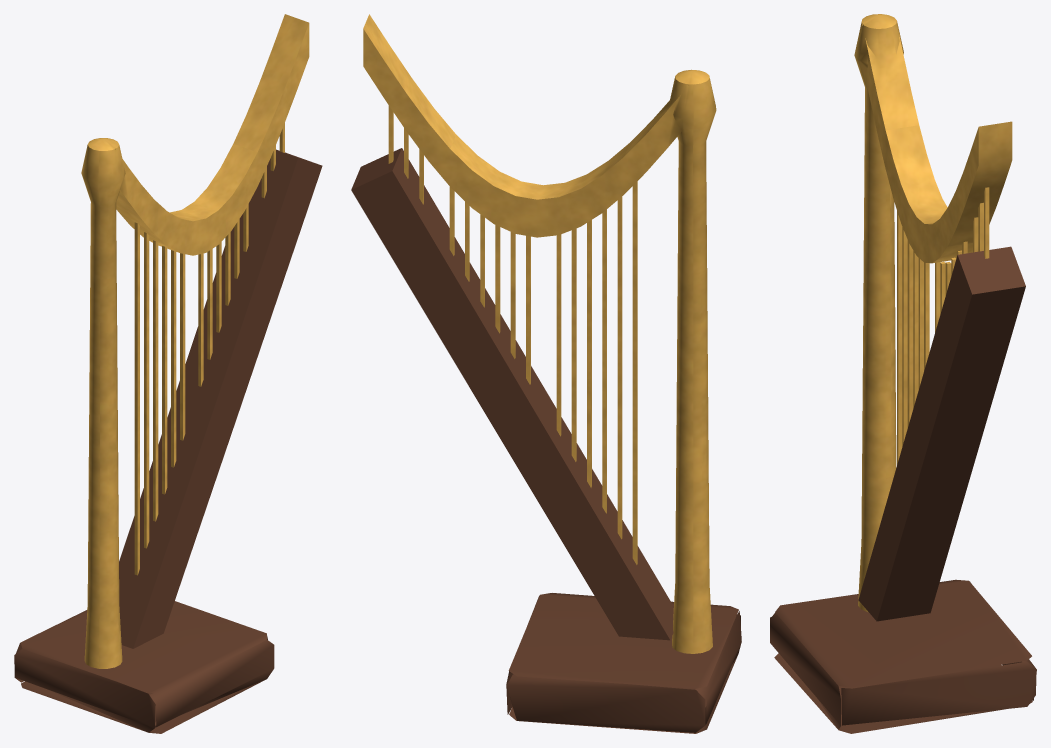
Rendered from sp_band_harp.glb.
The picture shows the model from 3 angles, left to right: view 1: azimuth 30°, elevation 25°; view 2: azimuth 150°, elevation 25°; view 3: azimuth 270°, elevation 25°; orthographic projection. The views are drawn at different scales.
Parts seen in each view (by area): view 1: pool_harp_1, pool_harp_0; view 2: pool_harp_1, pool_harp_0; view 3: pool_harp_1, pool_harp_0.
Part boxes in pixels (x1,y1,x2,y2): pool_harp_1: (14,149,322,733); pool_harp_0: (81,14,309,668); pool_harp_1: (351,148,741,733); pool_harp_0: (363,14,716,653); pool_harp_1: (770,246,1036,733); pool_harp_0: (854,14,1012,612).
Bounding box in the file's own units: 1.13 × 2.04 × 0.7462.
2 materials, 1 textured.
